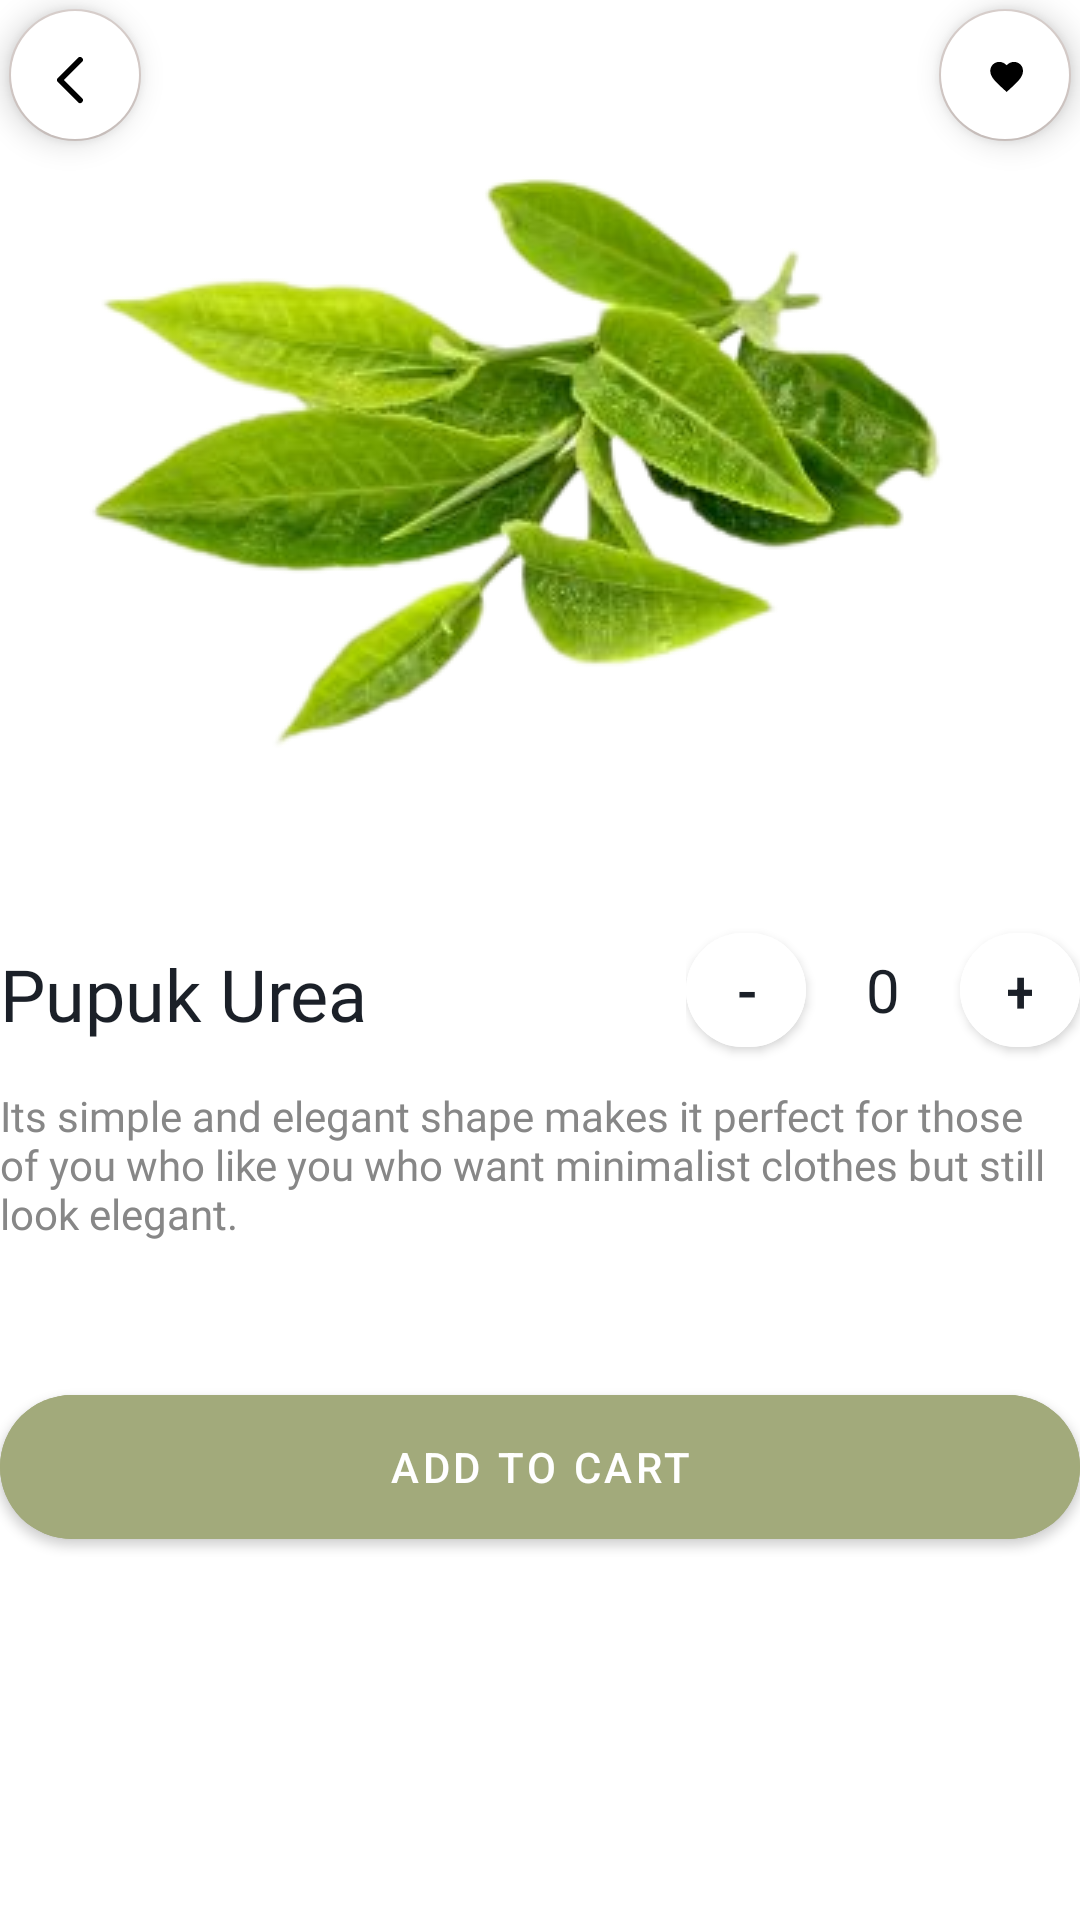

Icon bounding boxes for this 1080w x 1920h phone screenshot, format bbox=[x1, y1, x2, y2]:
favorite: bbox=[939, 9, 1071, 141]
